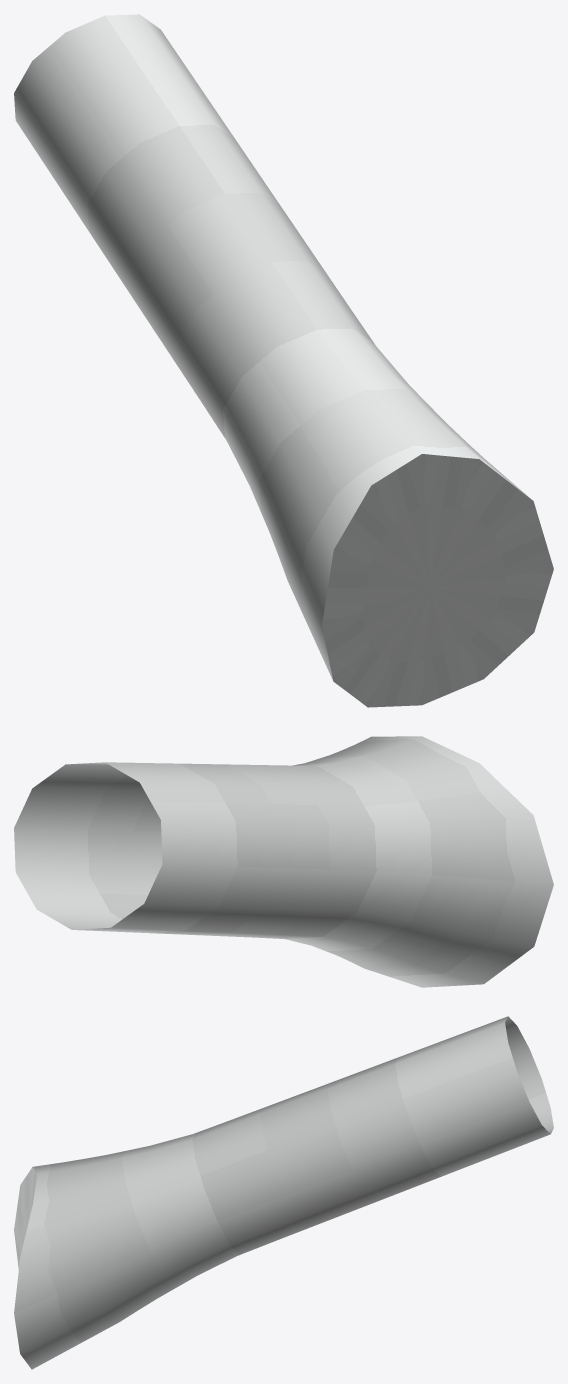
Rendered from luminairearm_caltrans10ftstraight_c0.obj.
The picture shows the model from 3 angles, top to bottom: view 1: azimuth 30°, elevation 25°; view 2: azimuth 150°, elevation 25°; view 3: azimuth 270°, elevation 25°; orthographic projection. The views are drawn at different scales.
Visible parts, largest first — view 1: luminairearm_caltrans10ftstraight_c0; view 2: luminairearm_caltrans10ftstraight_c0; view 3: luminairearm_caltrans10ftstraight_c0.
Part boxes in pixels (box(x1,y1,x2,y2)): luminairearm_caltrans10ftstraight_c0: box(14, 14, 553, 707); luminairearm_caltrans10ftstraight_c0: box(14, 736, 553, 987); luminairearm_caltrans10ftstraight_c0: box(14, 1016, 553, 1369).
Bounding box in the file's own units: 0.3375 × 0.6361 × 0.923.
